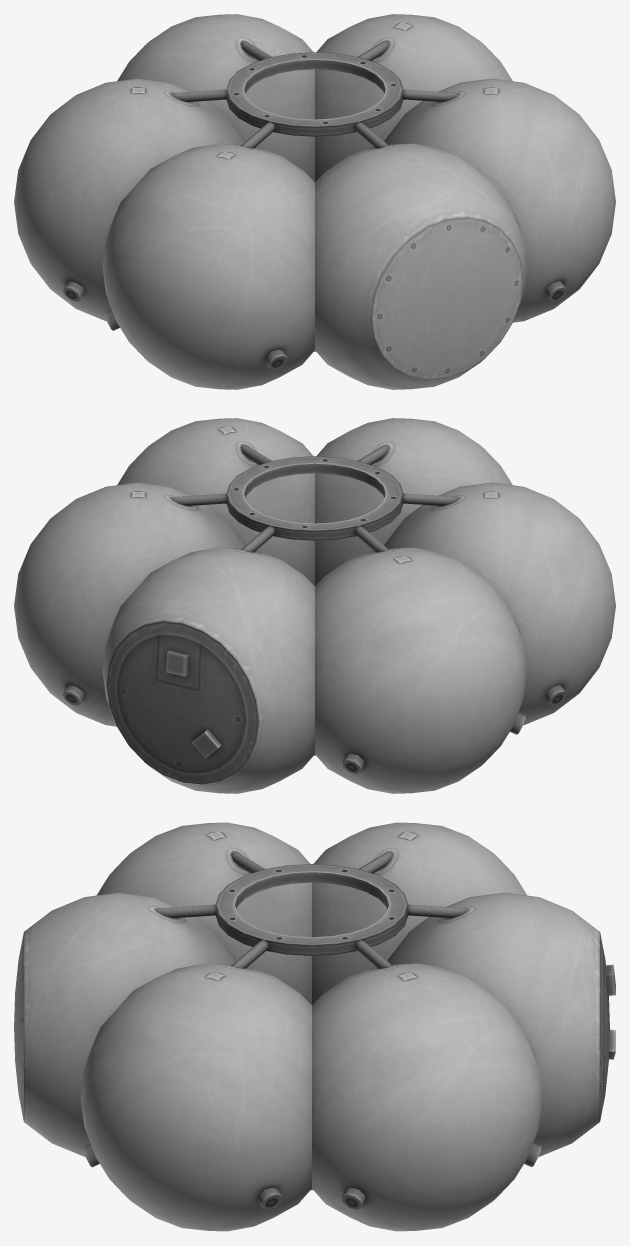
Rendered from tantares_us_avionics_s0_1_2node.obj.
3 views of the same model, one above another, from view 1: azimuth 30°, elevation 25°; view 2: azimuth 150°, elevation 25°; view 3: azimuth 270°, elevation 25° (orthographic). The views are drawn at different scales.
Visible parts, largest first — view 1: mesh1; view 2: mesh1; view 3: mesh1.
Boxes of the visible parts, left/top/right/bottom form: mesh1: left=14, top=14, right=615, bottom=389; mesh1: left=14, top=418, right=615, bottom=793; mesh1: left=14, top=822, right=615, bottom=1231.
Size of the model in its own units: 1.96 by 0.875 by 1.95.
1 material, 1 textured.
